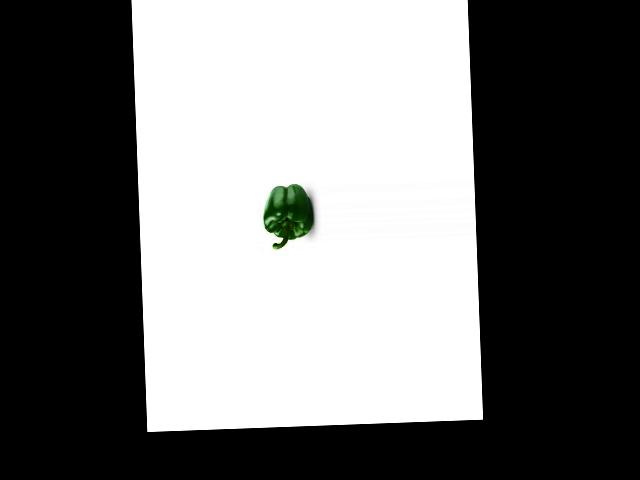bell_pepper: (261, 181, 313, 251)
